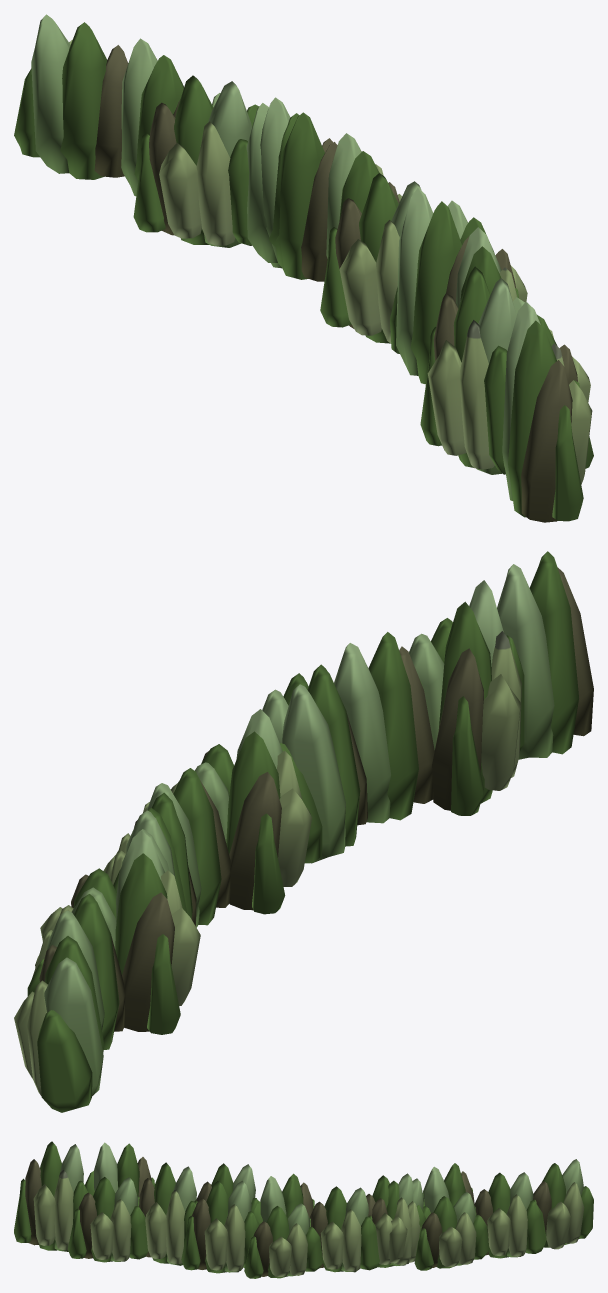
The model's file is BoardWalkFarTrees1.fbx.
3 views of the same model, one above another, from view 1: azimuth 30°, elevation 25°; view 2: azimuth 150°, elevation 25°; view 3: azimuth 270°, elevation 25° (orthographic). The views are drawn at different scales.
Visible parts, largest first — view 1: FarBrush2; view 2: FarBrush2; view 3: FarBrush2.
Boxes of the visible parts, left/top/right/bottom form: FarBrush2: left=14, top=14, right=593, bottom=522; FarBrush2: left=14, top=551, right=593, bottom=1112; FarBrush2: left=14, top=1141, right=593, bottom=1278.
Bounding box in the file's own units: 6.21 × 5.84 × 28.55.
